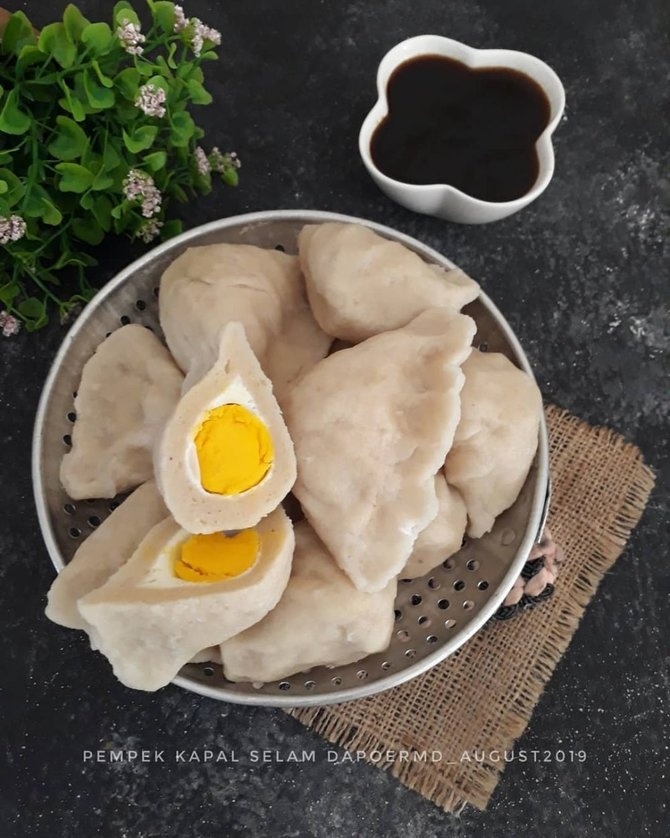pempek: (50, 227, 543, 695)
